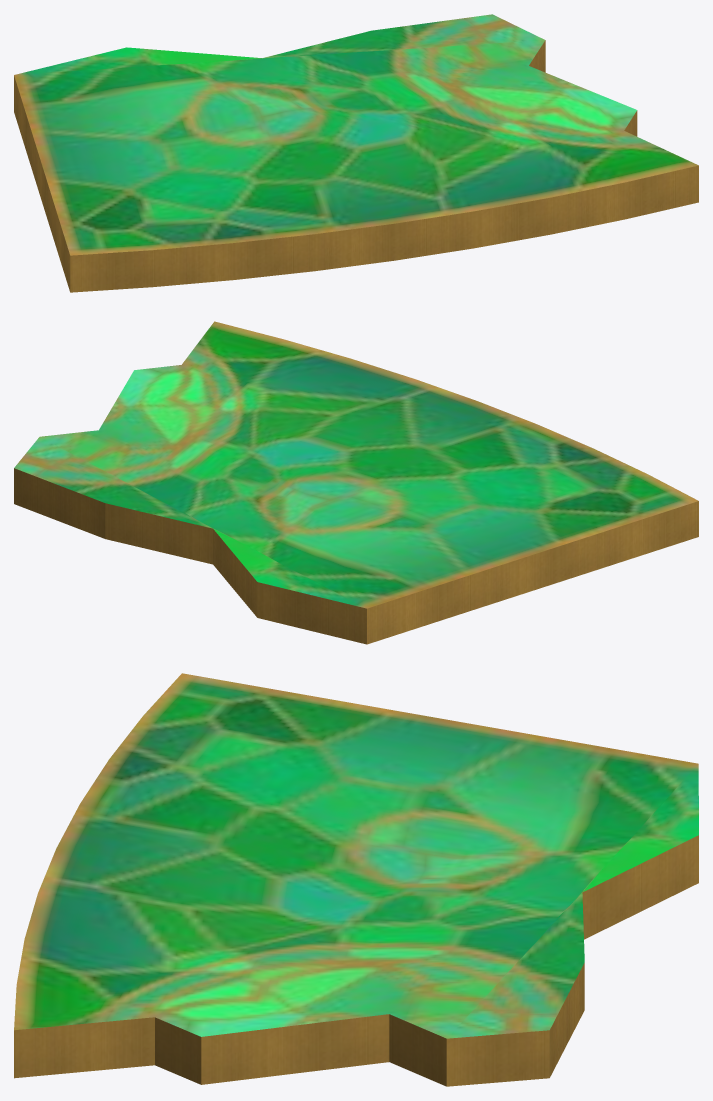
File: lb_chunk_3_3.glb
3 renders of one model, top to bottom at view 1: azimuth 30°, elevation 25°; view 2: azimuth 150°, elevation 25°; view 3: azimuth 270°, elevation 25°, orthographic. The views are drawn at different scales.
Visible parts, largest first — view 1: lb_chunk_3_3; view 2: lb_chunk_3_3; view 3: lb_chunk_3_3.
Part boxes in pixels (left/top/right/bottom): lb_chunk_3_3: left=14, top=14, right=698, bottom=292; lb_chunk_3_3: left=14, top=321, right=698, bottom=644; lb_chunk_3_3: left=14, top=673, right=698, bottom=1086.
Bounding box in the file's own units: 5.88 × 0.36 × 4.65.
2 materials, 2 textured.
